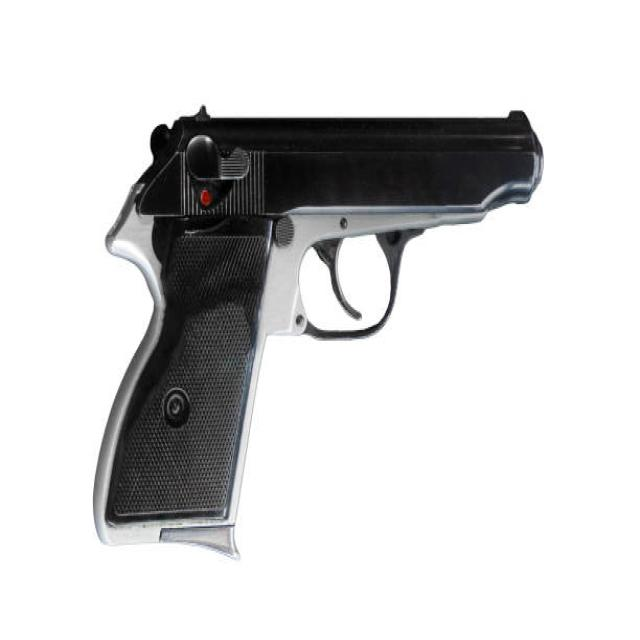pistol: (88, 95, 554, 563)
